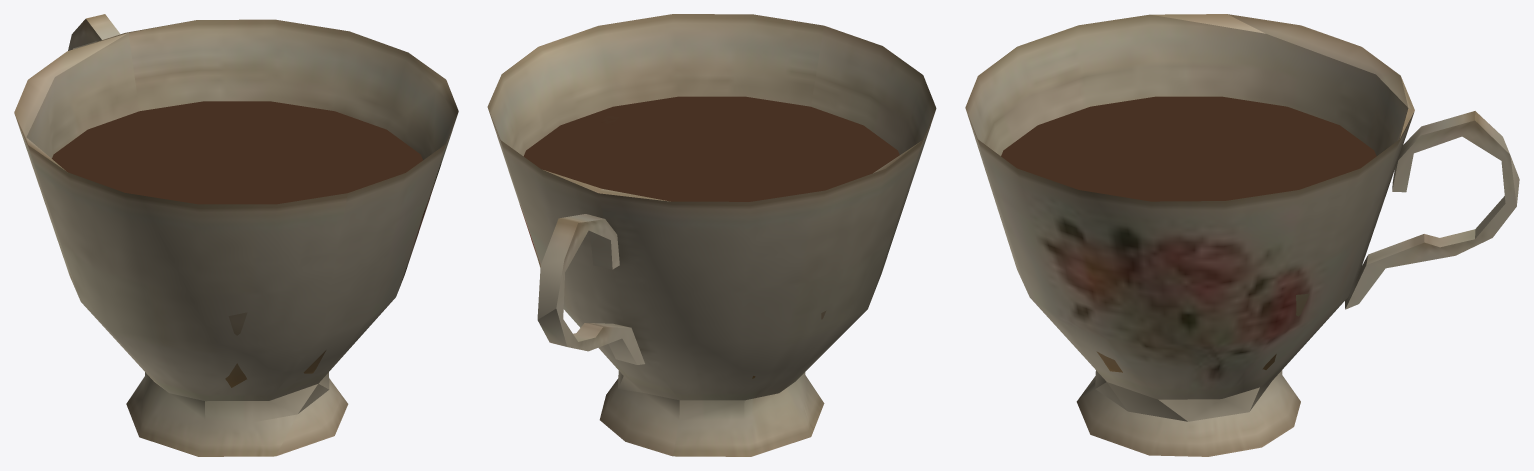
Rendered from teacup-tea.lod1.glb.
3 renders of one model, left to right at view 1: azimuth 30°, elevation 25°; view 2: azimuth 150°, elevation 25°; view 3: azimuth 270°, elevation 25°, orthographic.
Parts seen in each view (by area): view 1: teacup-tea; view 2: teacup-tea; view 3: teacup-tea.
Part boxes in pixels (box(x1,y1,x2,y2)): teacup-tea: box(14, 14, 458, 456); teacup-tea: box(487, 14, 936, 456); teacup-tea: box(965, 14, 1519, 456).
Size of the model in its own units: 0.0814 by 0.0616 by 0.1016.
Materials: 2 (2 with a texture image).
